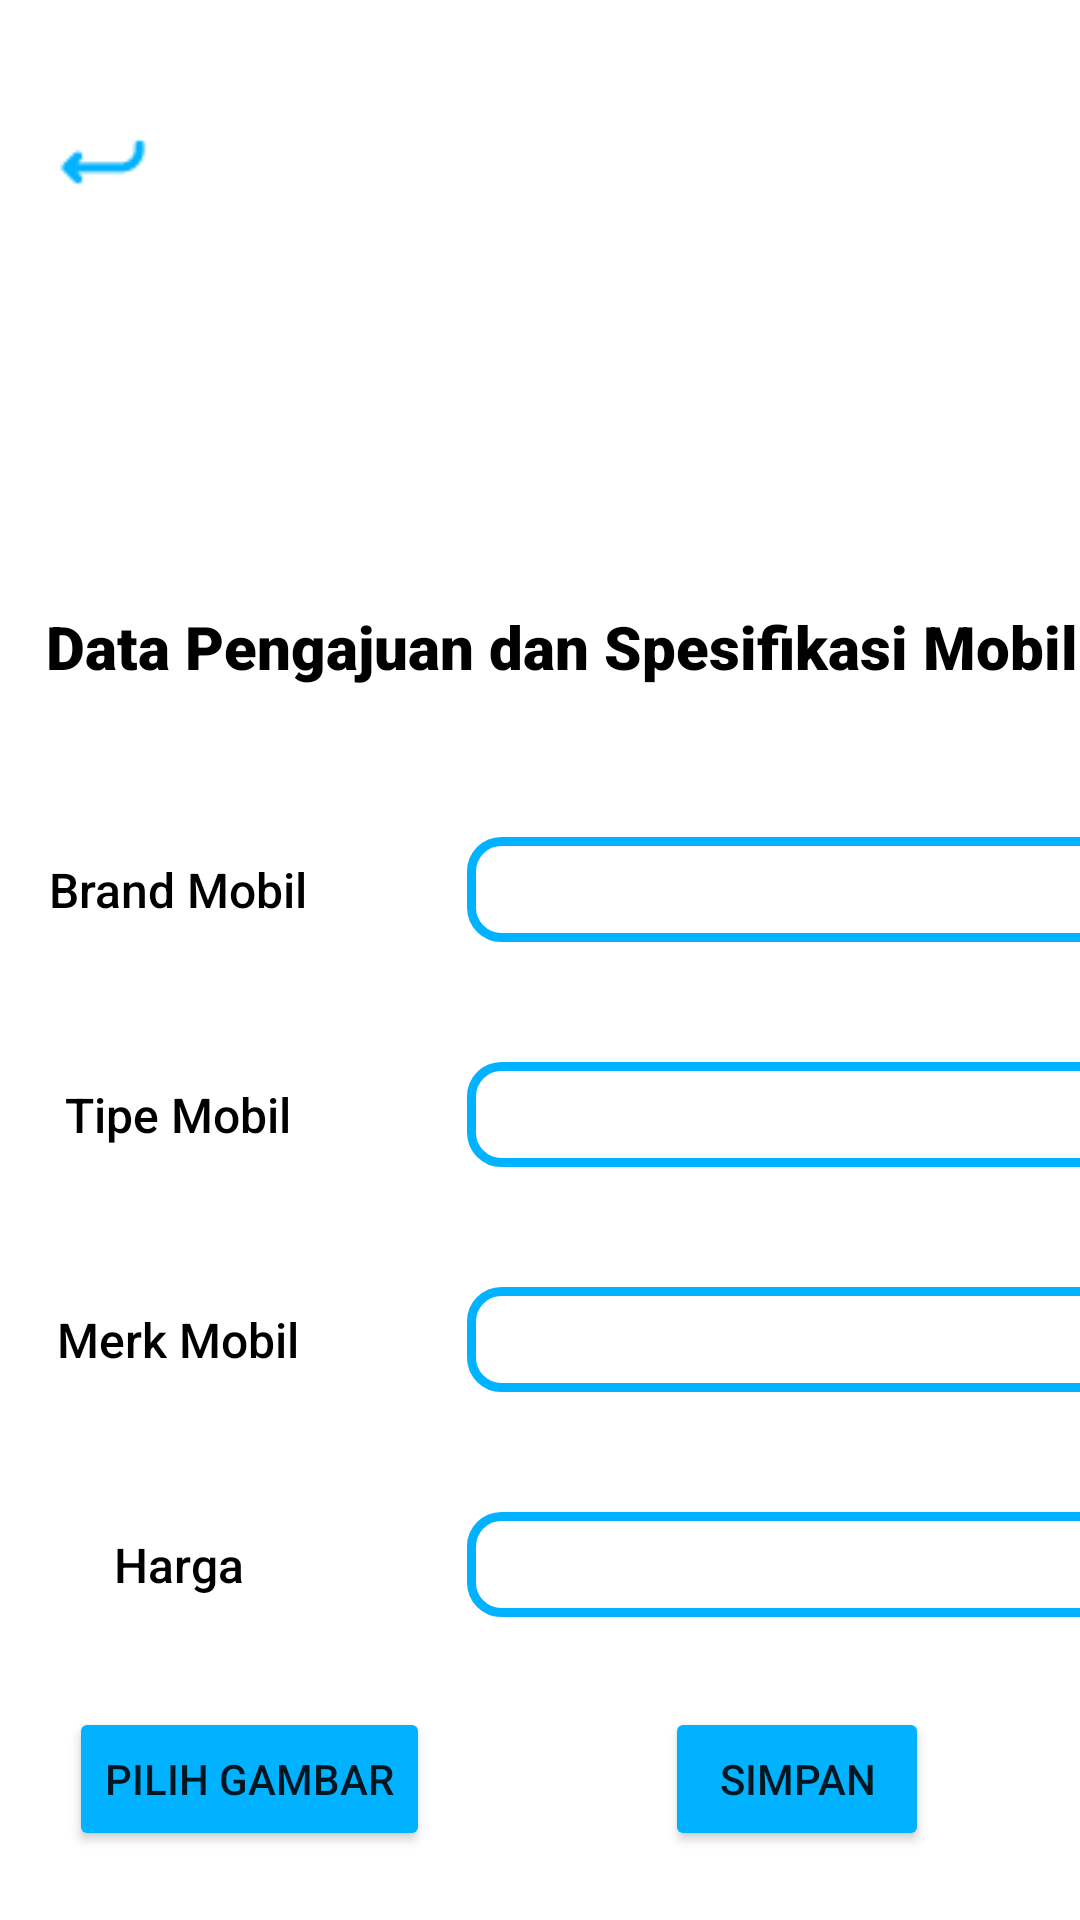

Point at icon controls on the screen. Image size 1080px x 1920px, points as [x,y].
back: [103,162]
